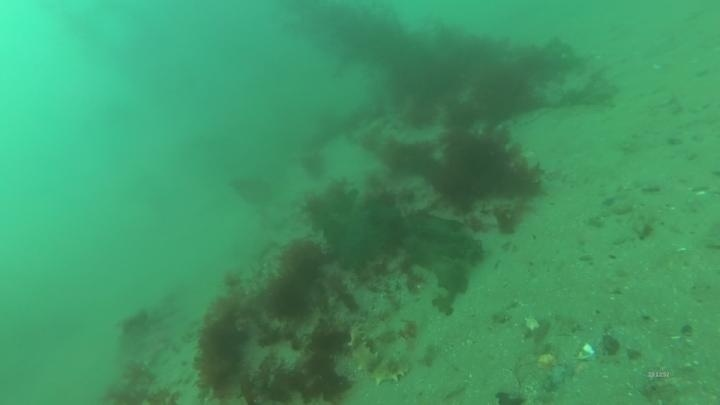holothurian: (344, 318, 408, 387)
